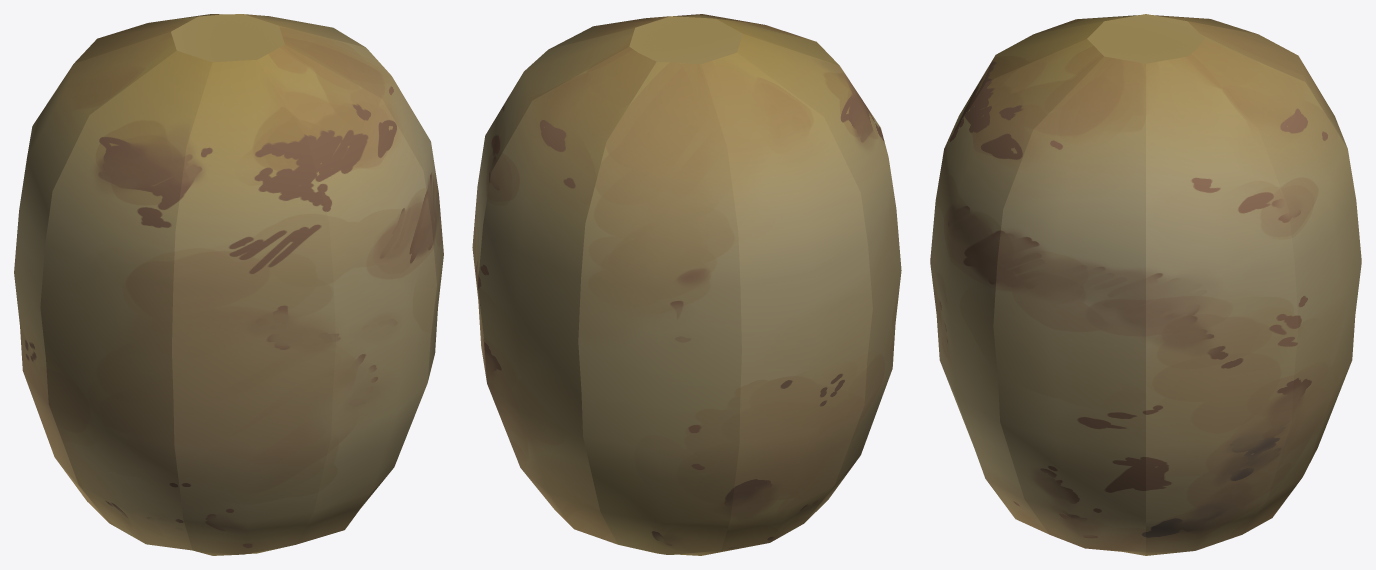
File: potato01.fbx
3 renders of one model, left to right at view 1: azimuth 30°, elevation 25°; view 2: azimuth 150°, elevation 25°; view 3: azimuth 270°, elevation 25°, orthographic.
Parts seen in each view (by area): view 1: potopo; view 2: potopo; view 3: potopo.
Part boxes in pixels (box(x1,y1,x2,y2)): potopo: box(14, 14, 443, 555); potopo: box(472, 14, 901, 555); potopo: box(930, 14, 1361, 555).
Size of the model in its own units: 18.31 by 23.05 by 18.31.
Materials: 1 (1 with a texture image).
